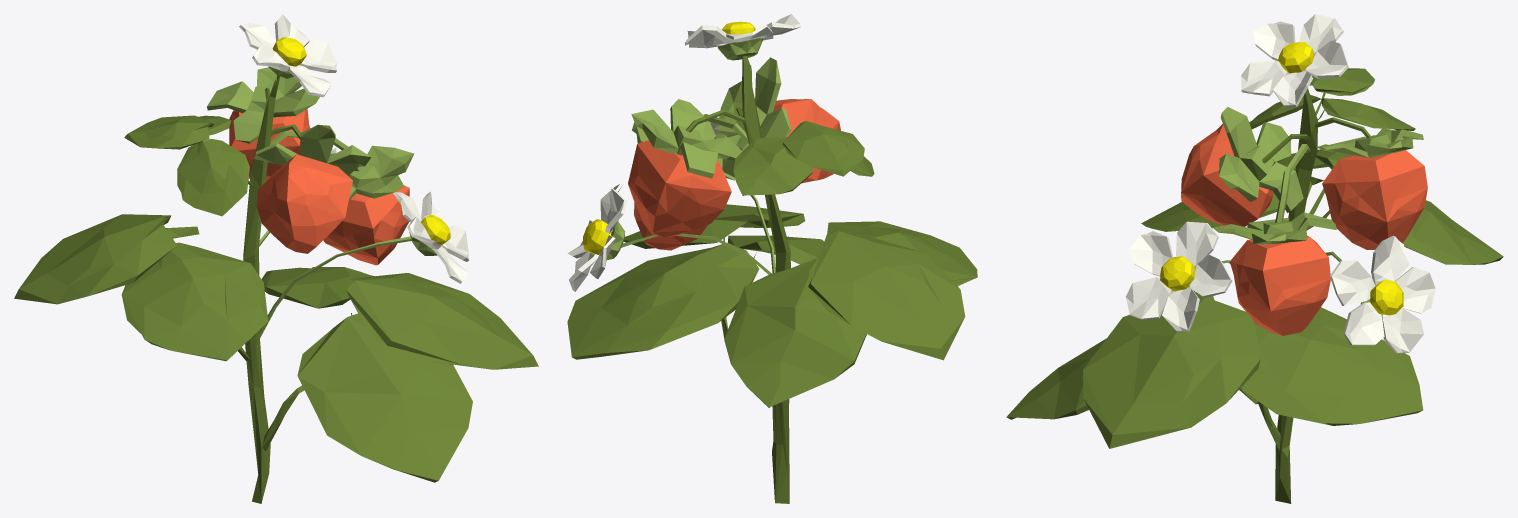
Rendered from wild strawberry plant.gltf.
The picture shows the model from 3 angles, left to right: view 1: azimuth 30°, elevation 25°; view 2: azimuth 150°, elevation 25°; view 3: azimuth 270°, elevation 25°; orthographic projection. The views are drawn at different scales.
Visible parts, largest first — view 1: wild strawberry plant; view 2: wild strawberry plant; view 3: wild strawberry plant.
Boxes of the visible parts, x1,y1,x2,y2 form: wild strawberry plant: [14, 14, 538, 503]; wild strawberry plant: [567, 14, 977, 503]; wild strawberry plant: [1006, 14, 1503, 503].
Bounding box in the file's own units: 5.88 × 6.52 × 6.02.
